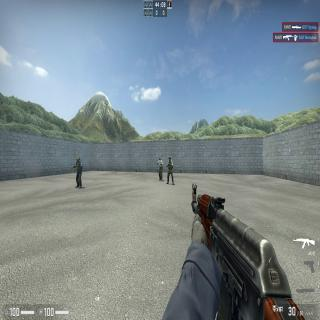CT-Body: (75, 156, 82, 188), (168, 156, 174, 185)
CT-Head: (76, 156, 80, 162), (169, 157, 171, 161)
T-Body: (159, 158, 162, 181)
